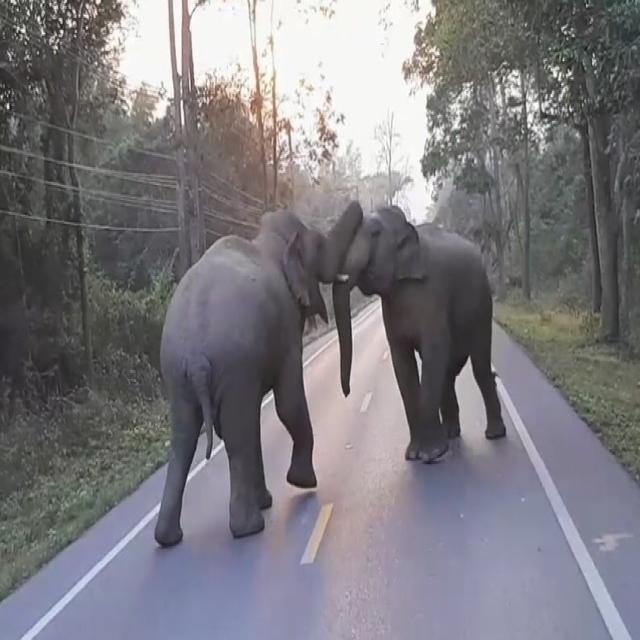Elephant: (150, 187, 361, 542), (326, 191, 518, 471)
